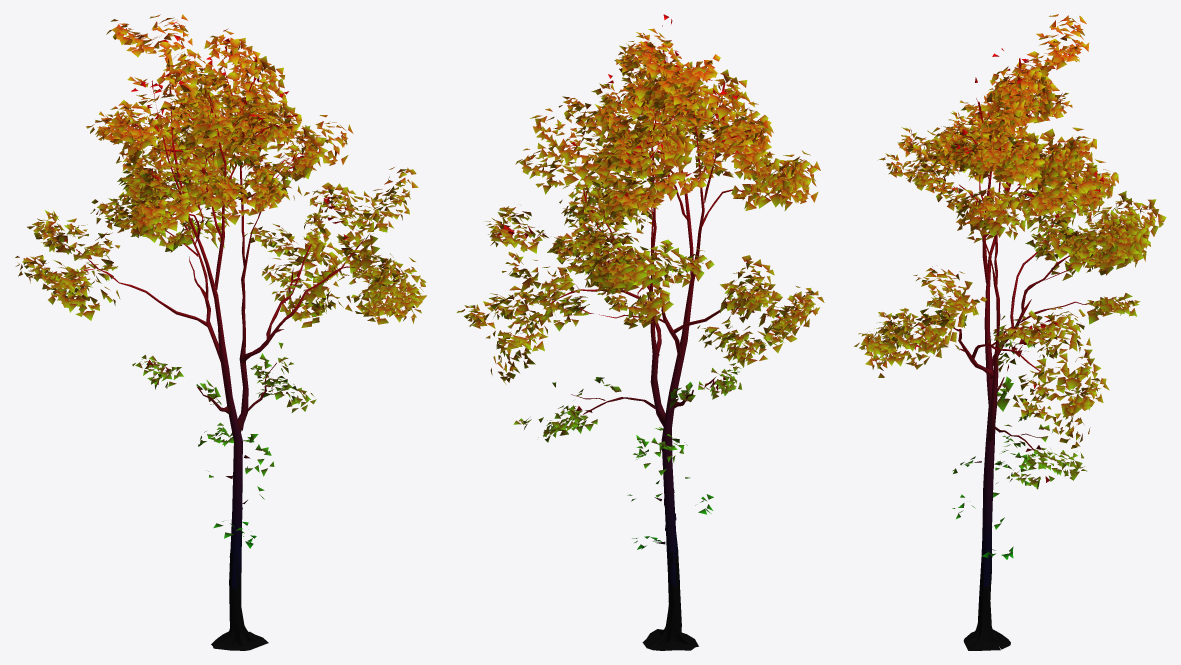
File: SM_EuropeanHornbeam_Forest_04.fbx
The picture shows the model from 3 angles, left to right: view 1: azimuth 30°, elevation 25°; view 2: azimuth 150°, elevation 25°; view 3: azimuth 270°, elevation 25°; orthographic projection. The views are drawn at different scales.
Visible parts, largest first — view 1: SM_EuropeanHornbeam_Forest_04; view 2: SM_EuropeanHornbeam_Forest_04; view 3: SM_EuropeanHornbeam_Forest_04.
Part boxes in pixels (bbox=[...]): SM_EuropeanHornbeam_Forest_04: bbox=[15, 14, 426, 650]; SM_EuropeanHornbeam_Forest_04: bbox=[457, 14, 824, 650]; SM_EuropeanHornbeam_Forest_04: bbox=[854, 14, 1166, 650].
Bounding box in the file's own units: 884 × 724 × 1508.
